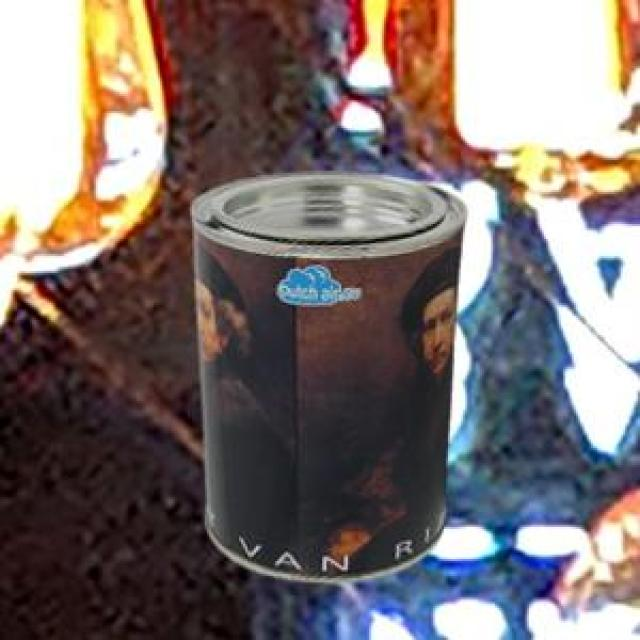logam: (189, 170, 464, 579)
